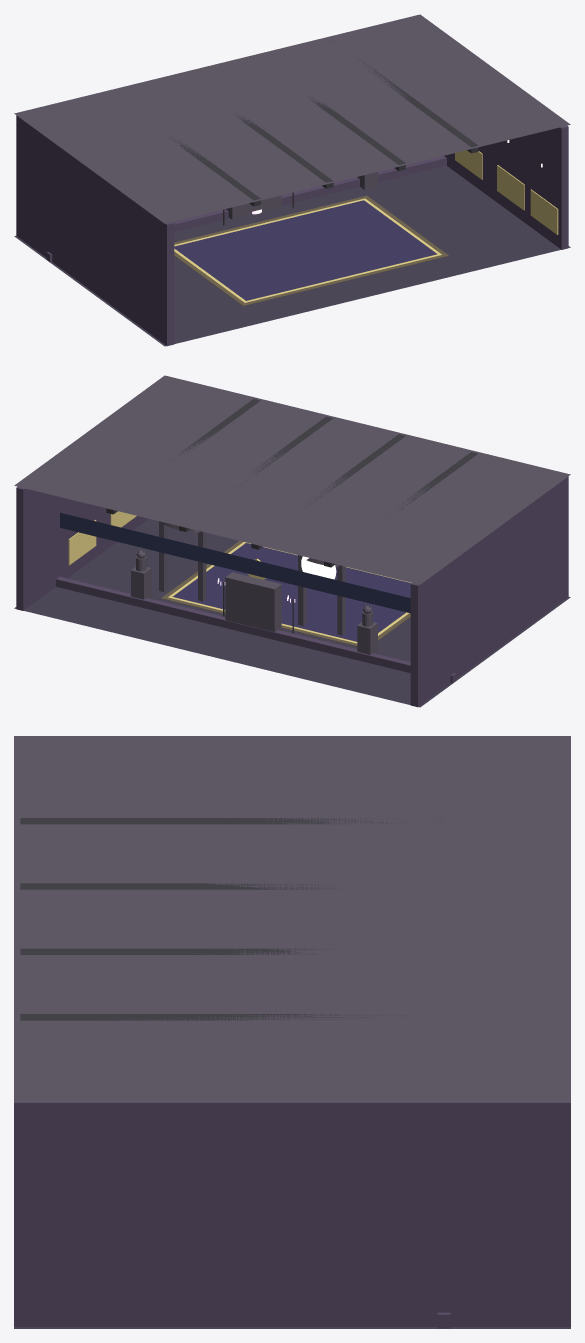
Rendered from room_barao_lounge.glb.
3 views of the same model, one above another, from view 1: azimuth 30°, elevation 25°; view 2: azimuth 150°, elevation 25°; view 3: azimuth 270°, elevation 25° (orthographic). The views are drawn at different scales.
Parts seen in each view (by area): view 1: Plane, Floor, SideWall_Left, ClubRug_Inner, SideWall_Right, Baseboard, ClubRug_Outer, ClubRug_Stripe, Cube.003, SideBoiserieFrame_Right_-5.5, SideBoiserieFrame_Right_-1.5, Cube.001 (+4 smaller); view 2: Plane, SideWall_Left, Floor, SideWall_Right, ClubRug_Inner, GothicSkyBackdrop, Baseboard, GothicFireplace, ClubRug_Outer, ClubRug_Stripe, Cube.001, SideBoiserieFrame_Right_3.5 (+9 smaller); view 3: Plane, SideWall_Right, Cube, Cube.003, Cube.002, Cube.001, Floor.
Boxes of the visible parts, x1,y1,x2,y2 form: Plane: (14, 14, 570, 223); Floor: (14, 165, 570, 346); SideWall_Left: (16, 115, 174, 346); ClubRug_Inner: (174, 200, 437, 300); SideWall_Right: (444, 126, 568, 249); Baseboard: (46, 156, 446, 262); ClubRug_Outer: (174, 195, 448, 305); ClubRug_Stripe: (174, 198, 441, 302); Cube.003: (335, 41, 478, 153); SideBoiserieFrame_Right_-5.5: (530, 189, 558, 234); SideBoiserieFrame_Right_-1.5: (497, 165, 524, 210); Cube.001: (234, 114, 333, 188); Plane: (14, 375, 570, 584); SideWall_Left: (410, 476, 568, 707); Floor: (14, 519, 570, 707); SideWall_Right: (16, 487, 148, 610); ClubRug_Inner: (172, 543, 411, 641); GothicSkyBackdrop: (60, 512, 410, 613); Baseboard: (56, 576, 456, 683); GothicFireplace: (225, 572, 281, 631); ClubRug_Outer: (161, 541, 410, 646); ClubRug_Stripe: (168, 542, 411, 643); Cube.001: (251, 434, 405, 549); SideBoiserieFrame_Right_3.5: (68, 520, 96, 565); Plane: (14, 736, 570, 1102); SideWall_Right: (14, 1102, 570, 1326); Cube: (20, 818, 445, 824); Cube.003: (20, 1014, 418, 1020); Cube.002: (20, 948, 409, 954); Cube.001: (20, 883, 339, 889); Floor: (14, 1327, 570, 1328).
Size of the model in its own units: 28 by 8.1 by 18.
